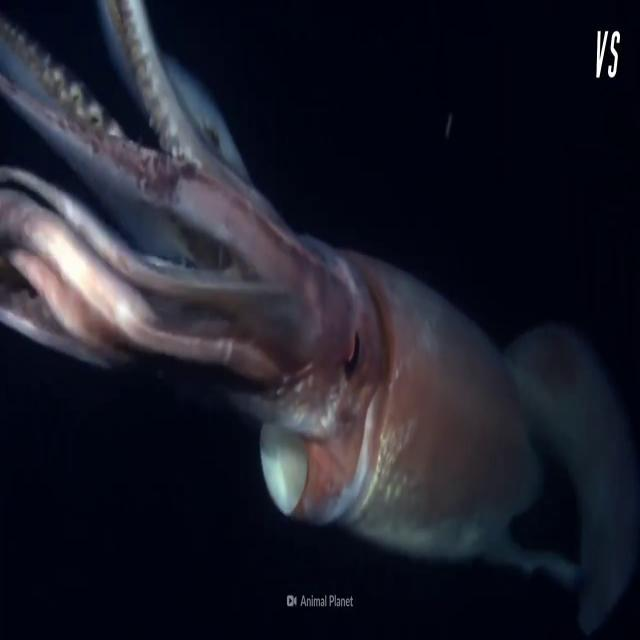squid: (0, 0, 640, 632)
